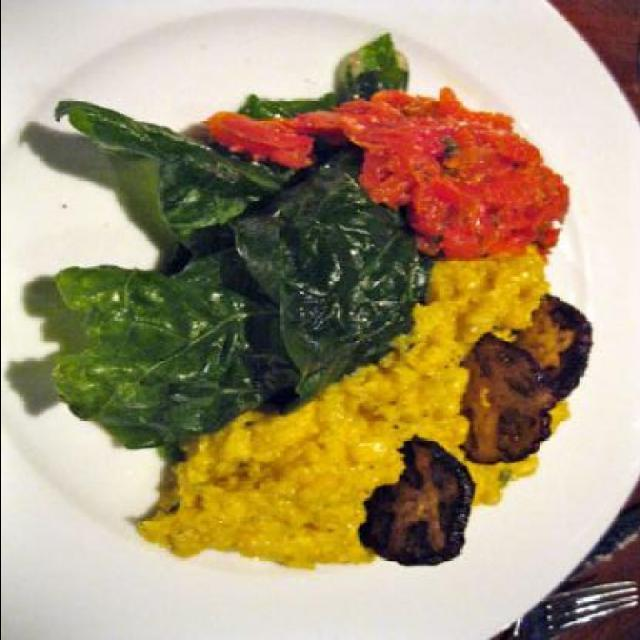Risotto: (170, 266, 578, 578)
